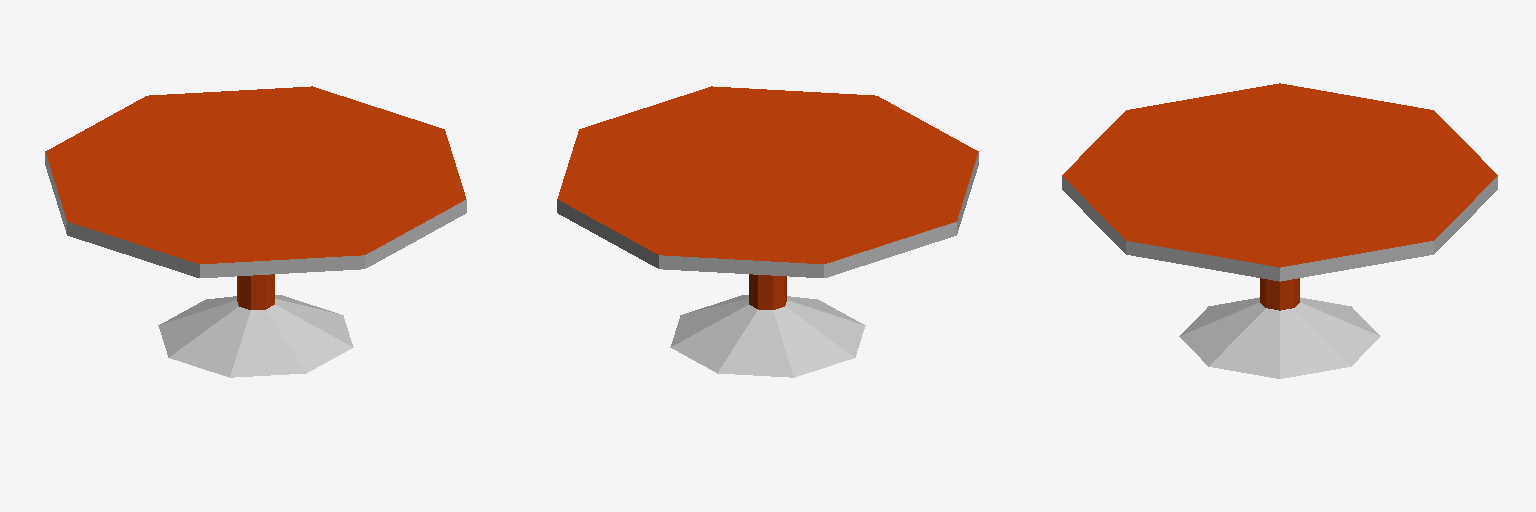
Rendered from table_3.obj.
3 views of the same model, side by side, from view 1: azimuth 30°, elevation 25°; view 2: azimuth 150°, elevation 25°; view 3: azimuth 270°, elevation 25° (orthographic).
Visible parts, largest first — view 1: table_3; view 2: table_3; view 3: table_3.
Boxes of the visible parts, box(x1,y1,x2,y2) form: table_3: box(45, 86, 466, 377); table_3: box(557, 86, 978, 377); table_3: box(1062, 83, 1497, 378).
Bounding box in the file's own units: 4.32 × 1.76 × 4.32.